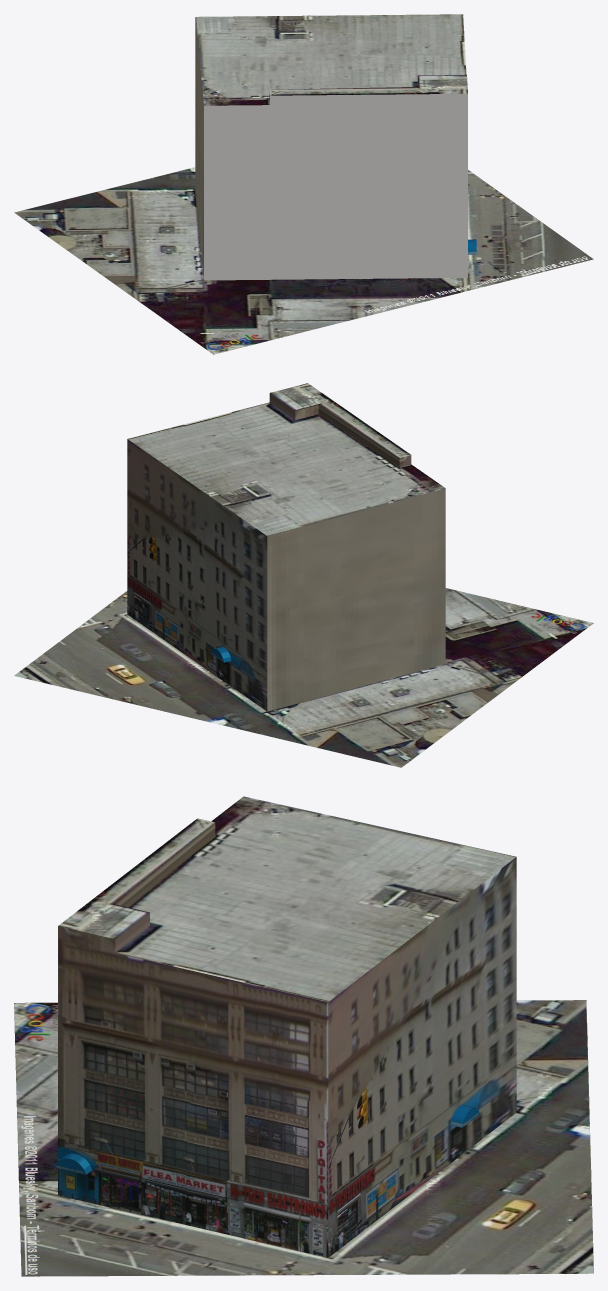
File: timesth2.fbx
The picture shows the model from 3 angles, top to bottom: view 1: azimuth 30°, elevation 25°; view 2: azimuth 150°, elevation 25°; view 3: azimuth 270°, elevation 25°; orthographic projection. The views are drawn at different scales.
Visible parts, largest first — view 1: Group2, Google_Earth_Snapshot, Componente_2_1; view 2: Group2, Google_Earth_Snapshot, Componente_2_1; view 3: Group2, Google_Earth_Snapshot, Componente_2_1.
Part boxes in pixels (bbox=[...]): Group2: bbox=[195, 14, 467, 280]; Google_Earth_Snapshot: bbox=[14, 167, 593, 354]; Componente_2_1: bbox=[269, 75, 467, 104]; Group2: bbox=[127, 402, 445, 711]; Google_Earth_Snapshot: bbox=[14, 588, 593, 767]; Componente_2_1: bbox=[269, 383, 411, 467]; Group2: bbox=[58, 796, 516, 1257]; Google_Earth_Snapshot: bbox=[14, 1000, 593, 1276]; Componente_2_1: bbox=[58, 818, 215, 952].
Bounding box in the file's own units: 50.99 × 23.18 × 45.21.
